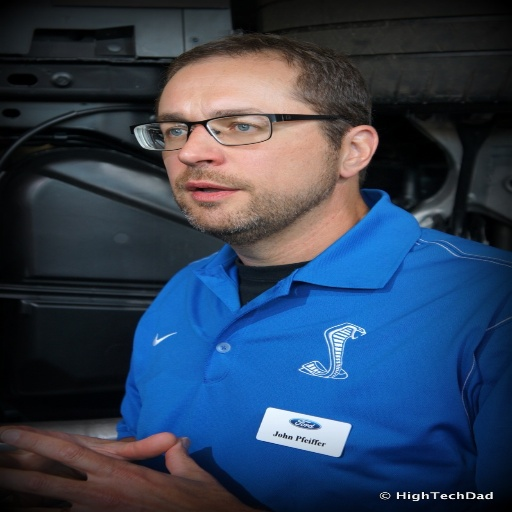hand: (0, 424, 177, 482)
